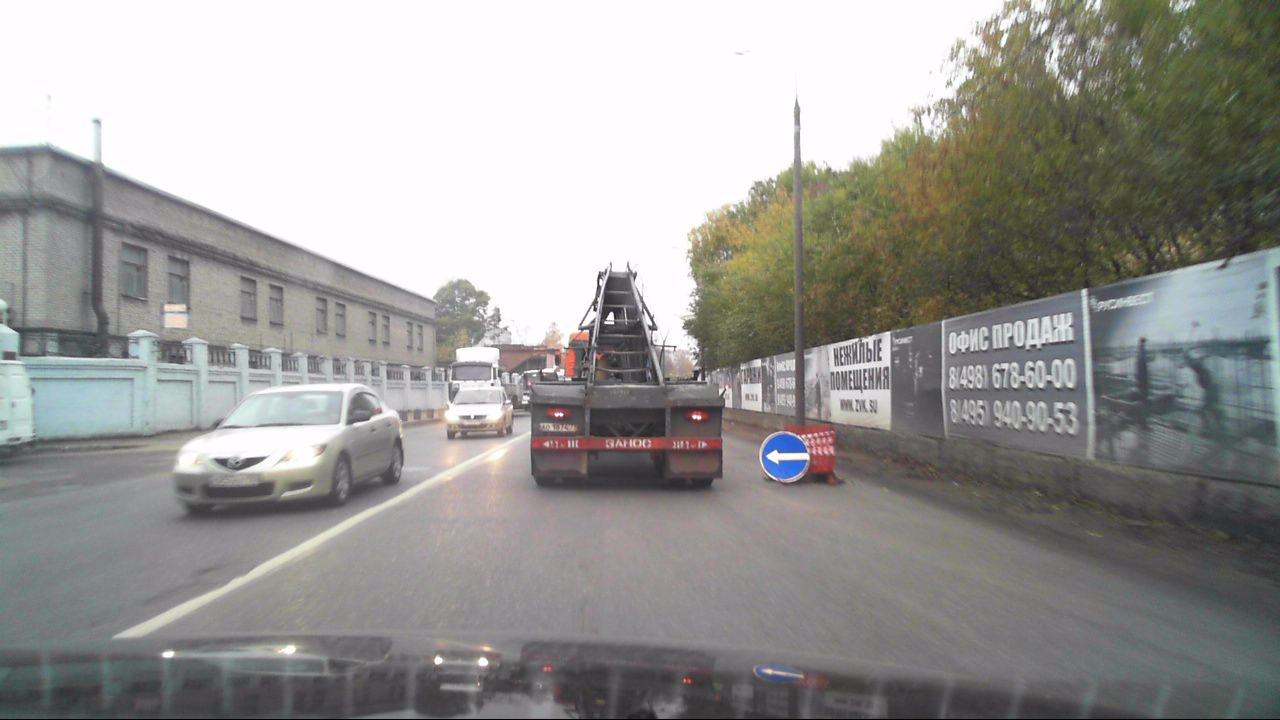Turn Left: (760, 431, 808, 482)
